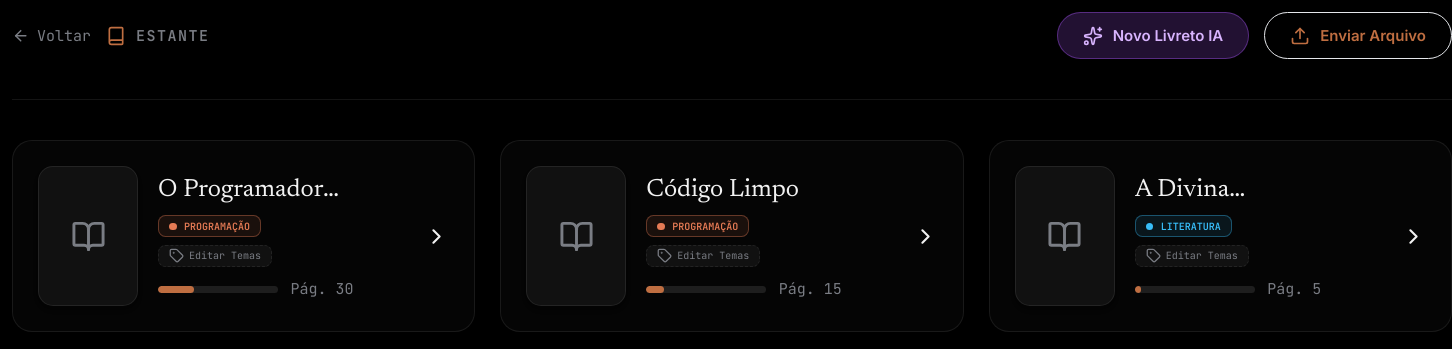
Scenario: Library Page › conta e filtra corretamente livros quando os nós do grafo possuem prefixo theme- e os livros possuem IDs numéricos ou nomes
Check: the number of elements with test id "user-book-card" is 3, box [12,140,475,332]; [500,140,964,332]; [989,140,1451,332]
Click the element showing "Programação" at (210, 226), box [158,215,261,237]
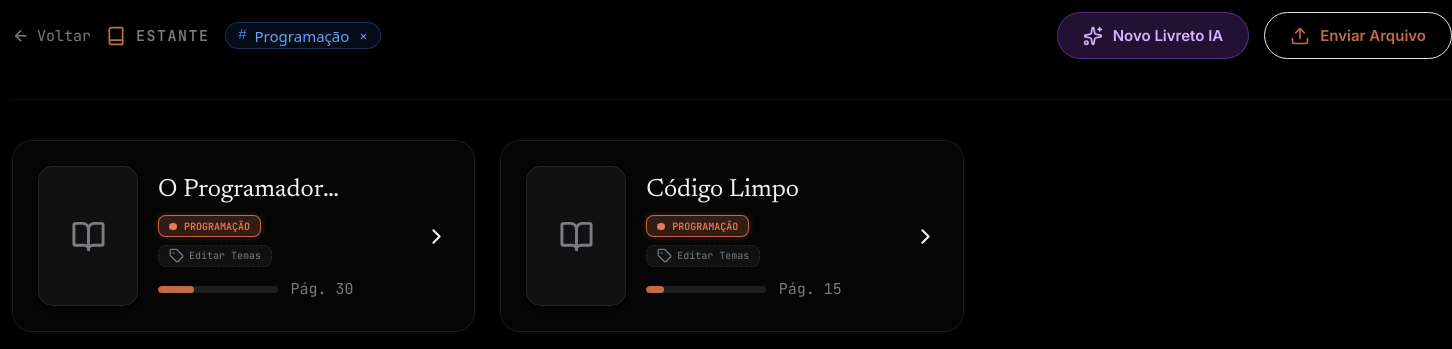
Check: the text "O Programador Pragmático" is shown, box [158,173,350,208]
Check: the number of elements with test id "user-book-card" is 2, box [12,140,475,332]; [500,140,964,332]
Check: the text "A Divina Comédia" is gone
Click the element showing "Programação" at (210, 226), box [158,215,261,237]
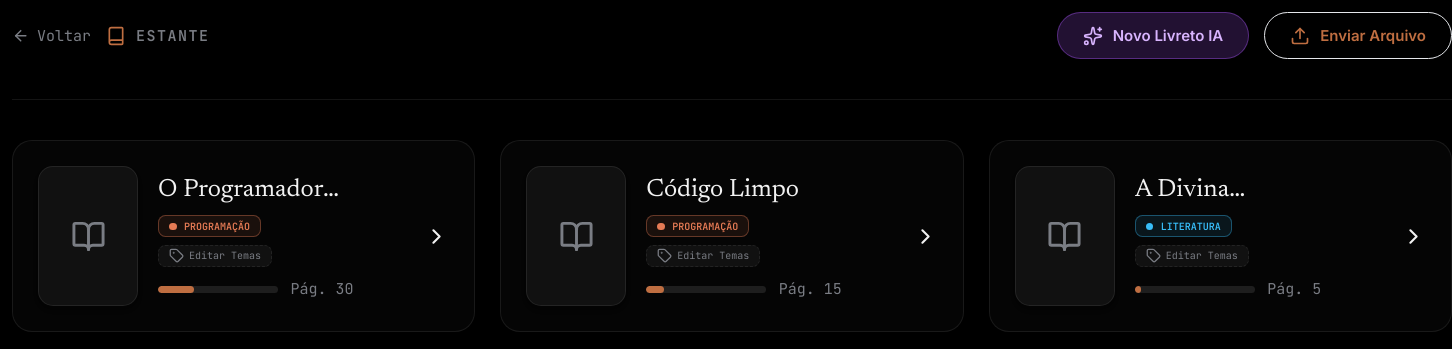
Check: the number of elements with test id "user-book-card" is 3, box [12,140,475,332]; [500,140,964,332]; [989,140,1451,332]
